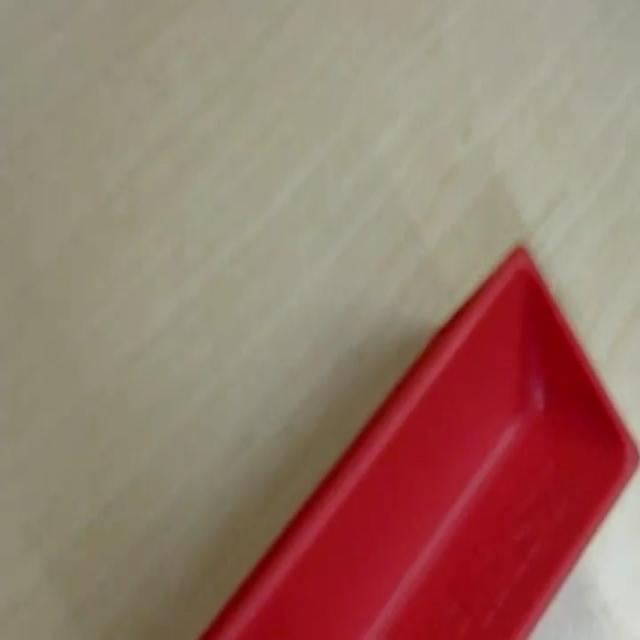red_block: (196, 242, 638, 638)
